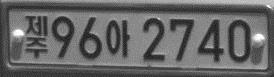0: (227, 18, 252, 62)
2: (141, 17, 166, 61)
4: (196, 18, 225, 63)
6: (77, 16, 103, 60)
7: (167, 17, 195, 61)
9: (49, 14, 75, 58)
아: (105, 18, 130, 59)
제주_V: (23, 14, 50, 59)
